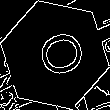O_W: (25, 27, 85, 83)
